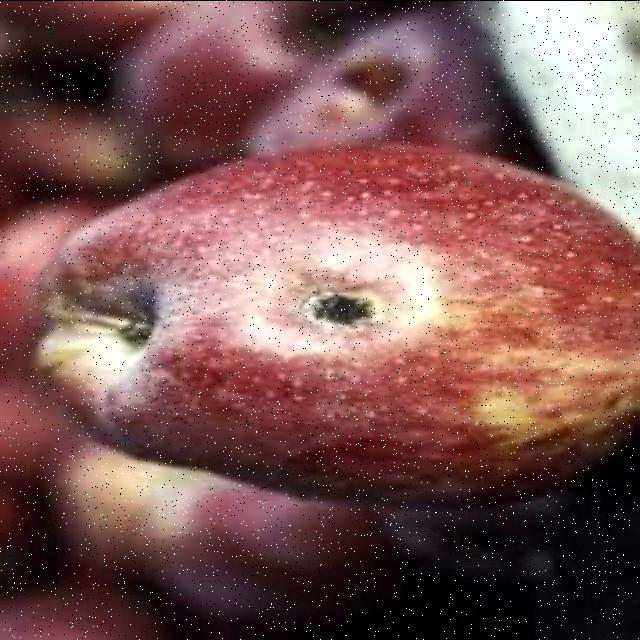SCAB: (20, 132, 612, 514)
